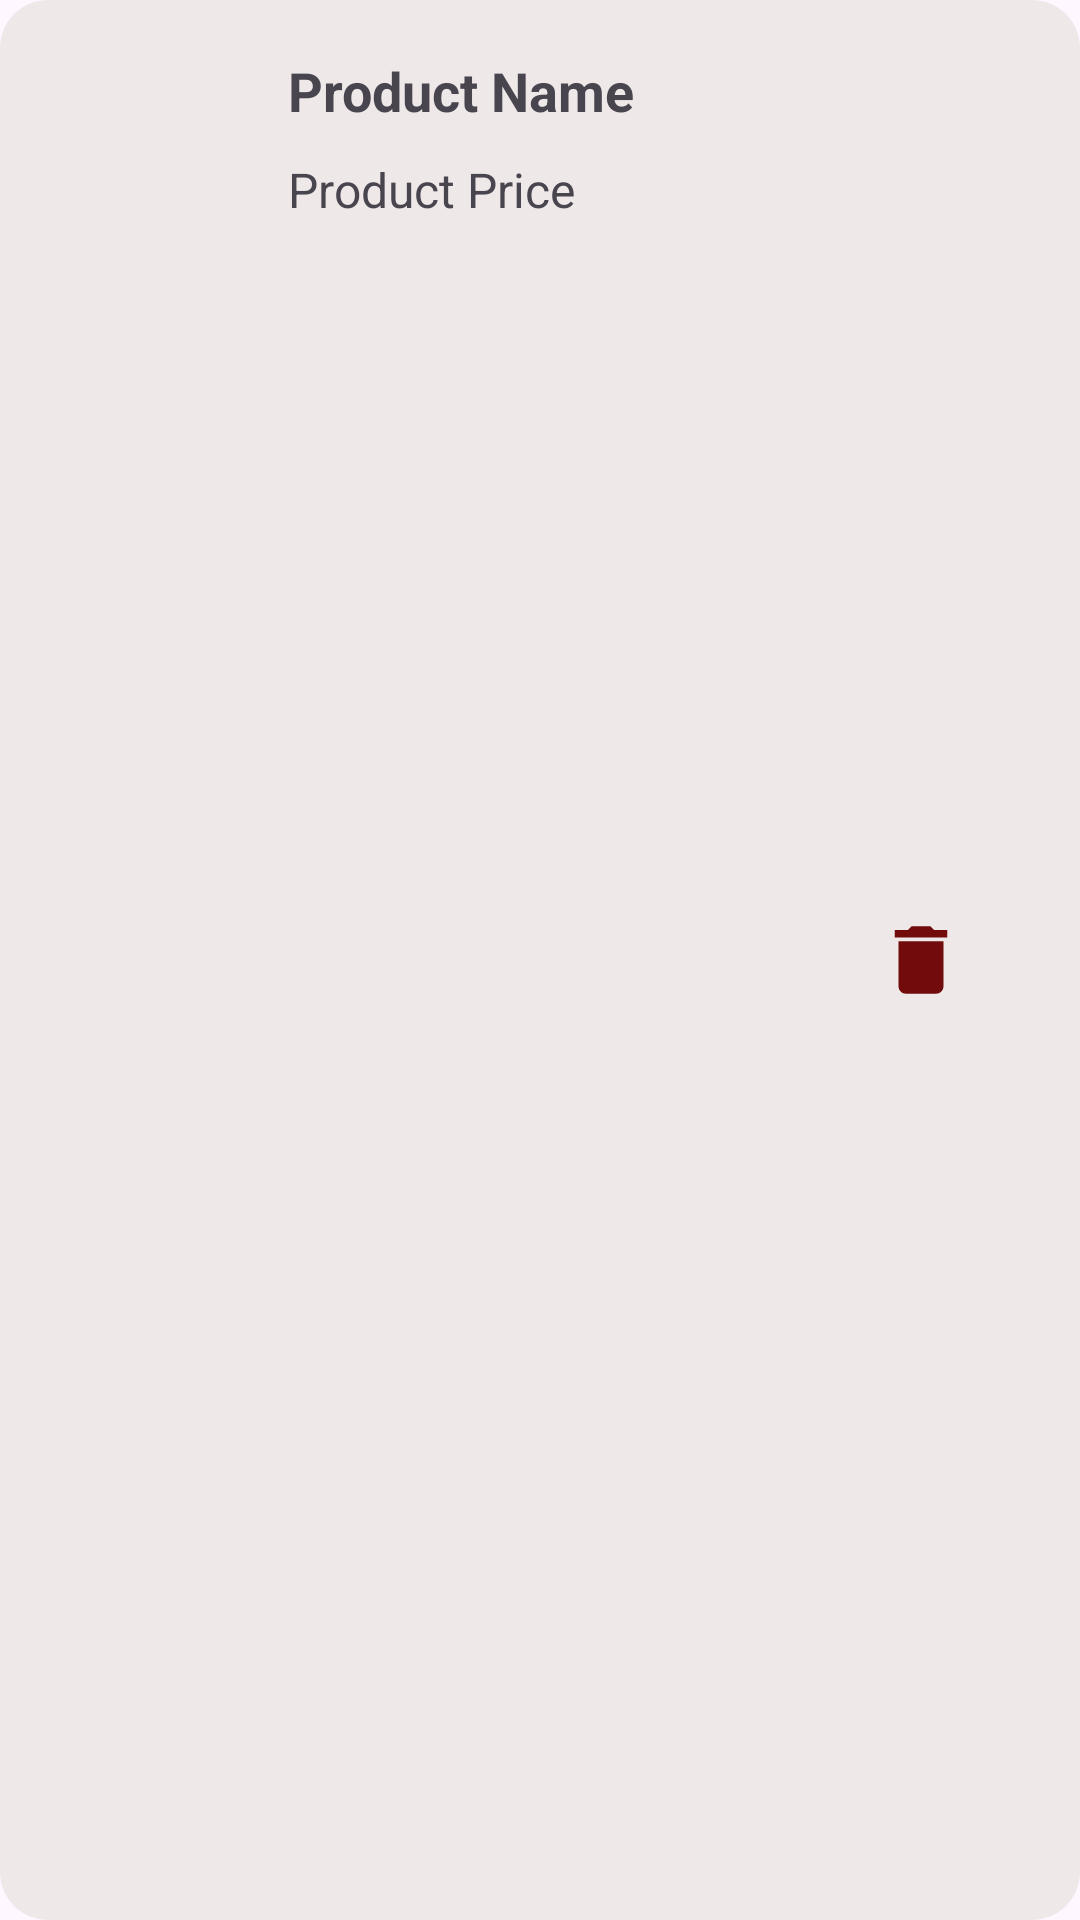

Point at icon controls on the screen. Image size 1080px x 1920px, points as [x,y].
delete: [921,960]
